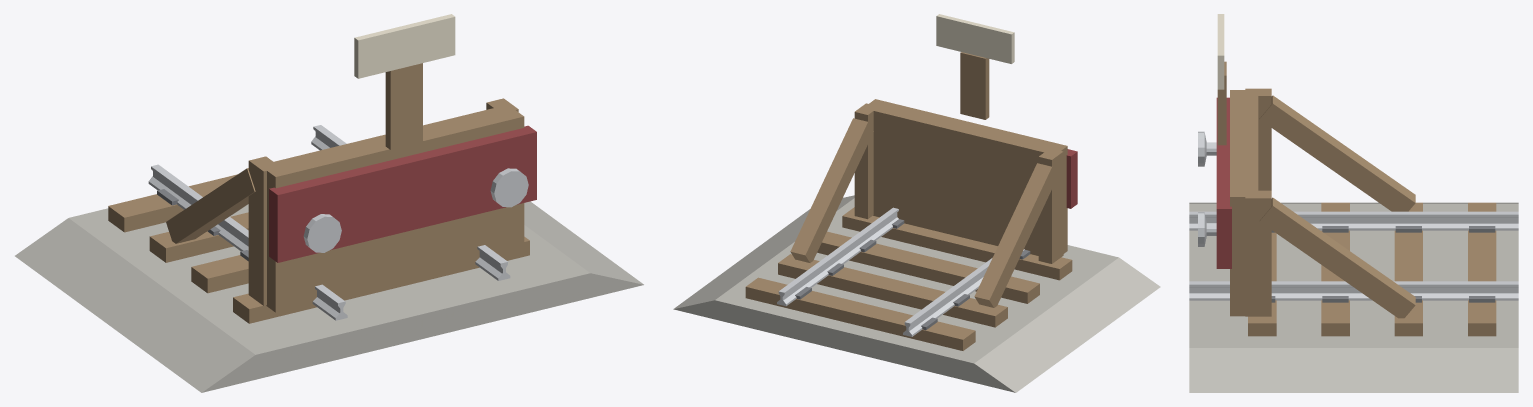
The model's file is steam-era-railway-and-rolling-stock-buffer-stop-84daeb10.glb.
3 renders of one model, left to right at view 1: azimuth 30°, elevation 25°; view 2: azimuth 150°, elevation 25°; view 3: azimuth 270°, elevation 25°, orthographic. The views are drawn at different scales.
Parts seen in each view (by area): view 1: buffer-stop; view 2: buffer-stop; view 3: buffer-stop.
Part boxes in pixels (x1=…): buffer-stop: x1=15, y1=14, x2=643, y2=392; buffer-stop: x1=673, y1=14, x2=1160, y2=392; buffer-stop: x1=1189, y1=14, x2=1518, y2=392.
Size of the model in its own units: 4.1 by 2.64 by 3.
